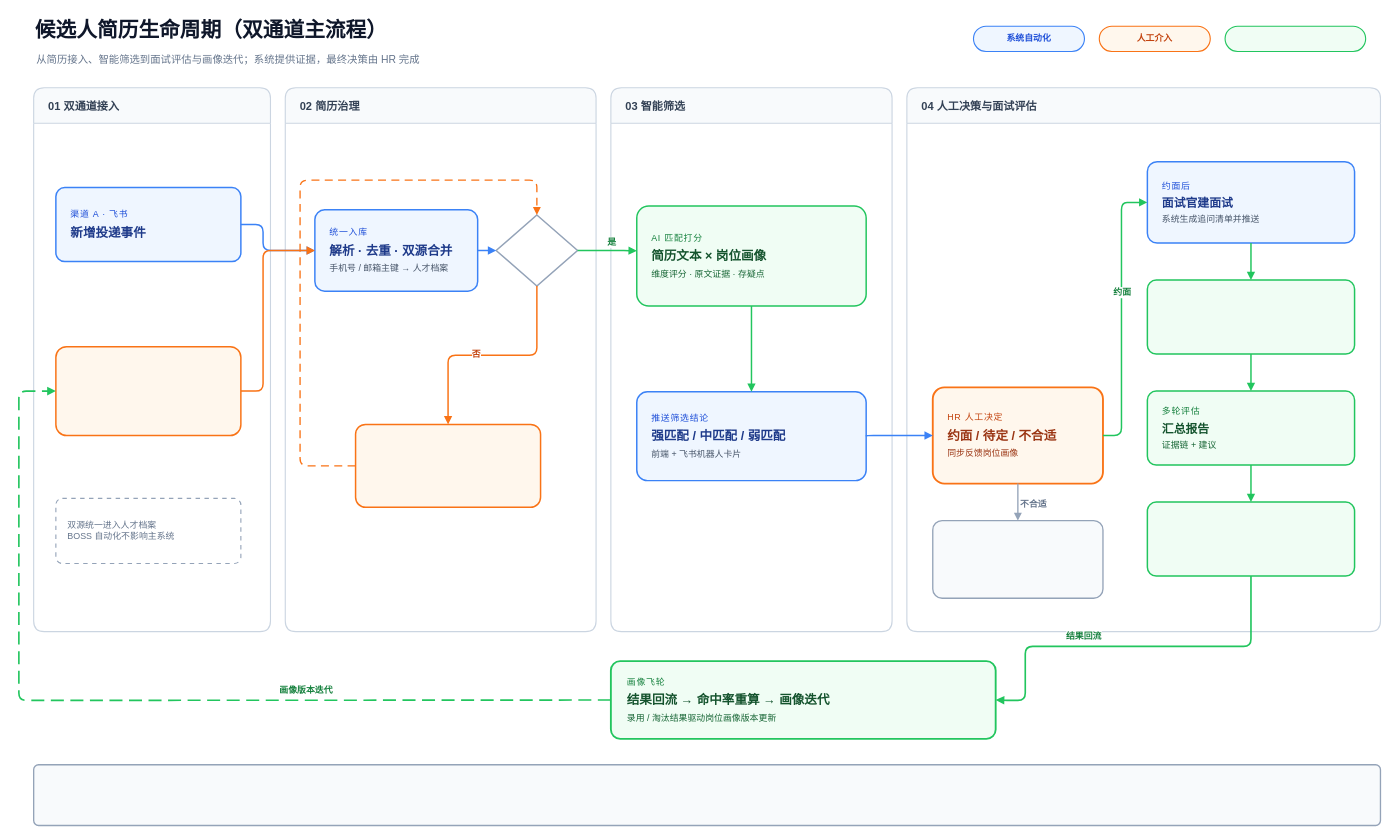
Image size: 1393x838. Some labels were removed from this diagram. Here are the shapes that lost their labels. From the top down, the centre of each, then its label:
At [1295,38]: "AI 评估 / 学习".
At [536,250]: "解析 成功？".
At [1250,316]: "面试后 填写评分卡 最多 5 个维度 · 点选为主".
At [148,391]: "渠道 B · BOSS（同事 B） 打招呼 → 自动下载简历 纯文本 · 独立数据源".
At [447,465]: "人工修正队列 失败解析 / 扫描件 修复后重试".
At [1250,538]: "录用 / 淘汰结果 回流学习 保留最终状态与依据".
At [1017,559]: "人才库归档 不自动拒绝 保留状态与证据".
At [707,795]: "治理红线 AI 只给建议，不自动拒绝；低分进入人工复核；每条结论必须附简历原文证据；BOSS 自动化仅作为独立数据源，风控不影响主系统。".
